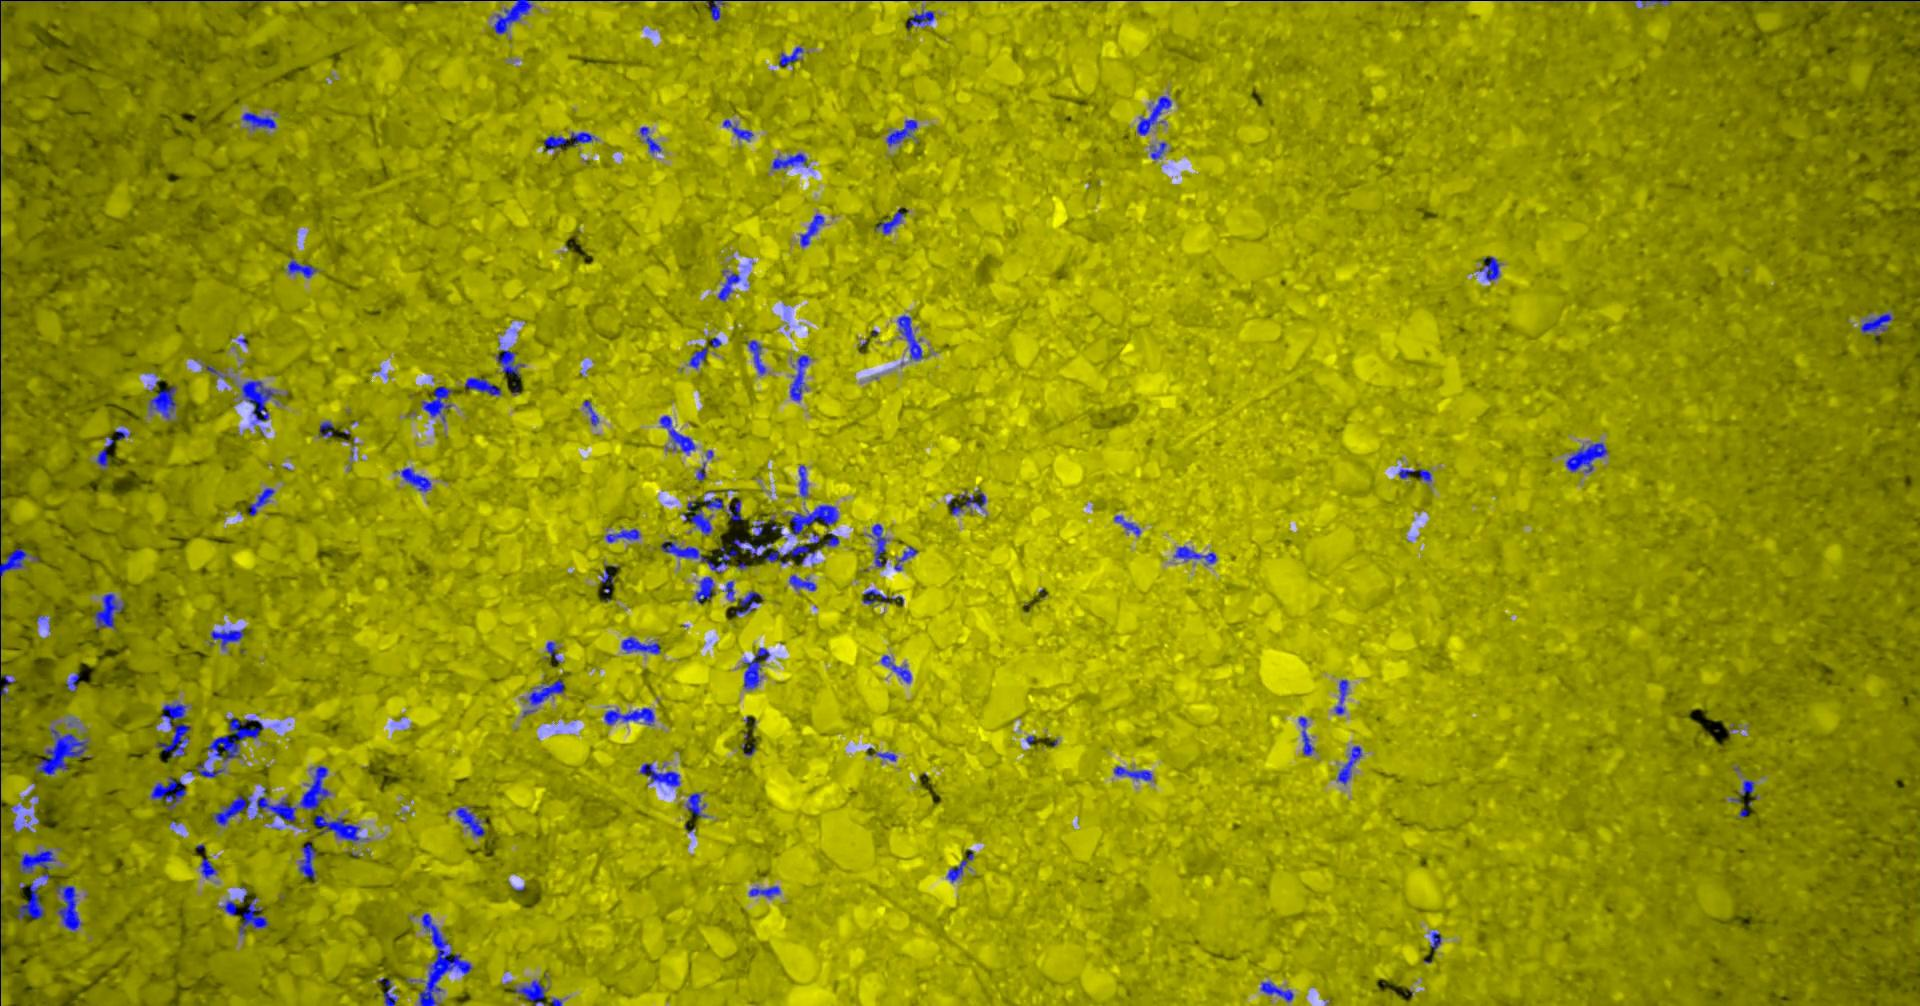ant: (207, 716, 263, 760), (36, 728, 88, 774), (156, 702, 190, 756), (790, 504, 837, 537), (312, 812, 359, 841), (659, 415, 695, 453), (298, 765, 329, 809), (240, 380, 273, 420), (1564, 442, 1608, 473), (1137, 95, 1171, 133), (491, 0, 531, 33), (257, 788, 296, 821), (211, 794, 250, 826), (897, 315, 923, 359), (150, 776, 185, 809), (55, 885, 80, 930), (743, 647, 770, 688), (237, 895, 267, 934), (93, 593, 124, 627), (422, 385, 452, 420), (18, 848, 55, 878), (543, 131, 596, 151), (524, 678, 563, 705), (17, 882, 43, 920), (149, 385, 177, 419), (789, 354, 809, 400), (639, 763, 679, 786), (455, 807, 485, 836), (1337, 746, 1361, 782), (946, 848, 973, 882), (867, 523, 886, 567), (604, 708, 654, 724), (880, 655, 910, 682), (799, 213, 823, 246), (397, 467, 430, 492), (513, 981, 546, 1005), (951, 492, 985, 514), (682, 507, 711, 533), (1173, 545, 1217, 563), (248, 486, 274, 514), (0, 547, 27, 575), (886, 119, 916, 145), (875, 207, 904, 232), (620, 636, 660, 654), (497, 349, 523, 376), (717, 269, 740, 300), (1860, 312, 1891, 335), (1260, 981, 1293, 1001), (463, 377, 500, 395), (735, 589, 761, 615), (723, 119, 752, 141), (210, 629, 243, 648), (862, 589, 903, 605), (747, 340, 764, 373), (298, 843, 315, 879), (894, 545, 917, 570), (1298, 716, 1313, 754), (639, 126, 660, 152), (287, 257, 315, 277), (1112, 514, 1140, 535), (241, 112, 276, 128), (771, 152, 808, 168), (907, 10, 935, 29), (1112, 766, 1150, 780), (604, 528, 640, 542), (695, 575, 712, 603), (1477, 257, 1498, 279), (686, 793, 707, 815), (778, 46, 803, 66), (97, 437, 113, 466), (1335, 680, 1349, 714), (1398, 467, 1431, 481), (196, 761, 223, 777), (378, 977, 395, 1005), (688, 347, 707, 368), (583, 400, 598, 426), (789, 575, 815, 589), (705, 0, 723, 20), (0, 674, 15, 697), (748, 885, 778, 897), (797, 465, 808, 497), (545, 641, 560, 662), (201, 857, 216, 878), (869, 751, 897, 761), (1737, 779, 1754, 795), (1150, 141, 1166, 159), (728, 500, 742, 520), (599, 564, 613, 583), (65, 672, 79, 691), (703, 497, 723, 509), (317, 420, 331, 436), (221, 901, 236, 915), (1430, 931, 1441, 949), (823, 533, 838, 545), (725, 580, 734, 600), (1848, 0, 1919, 1)
